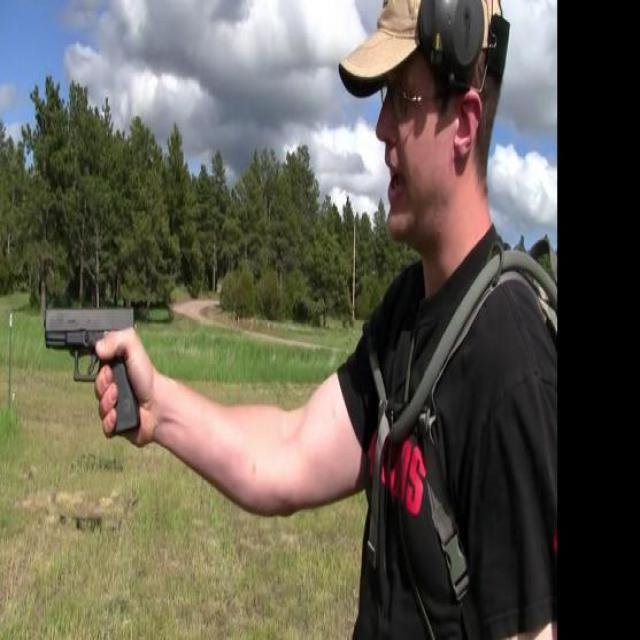weapon: (41, 306, 142, 438)
